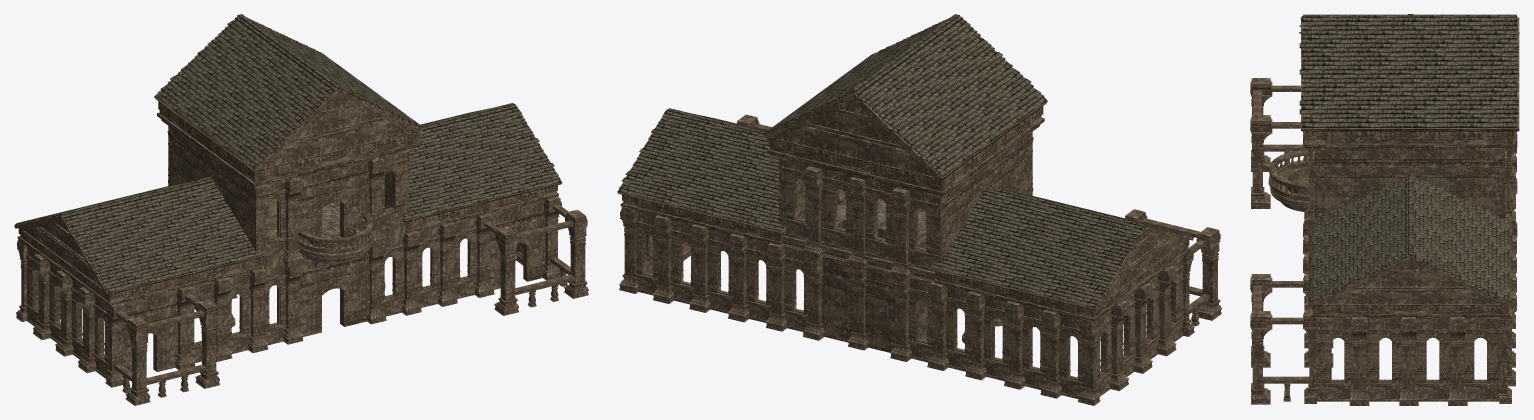
The model's file is materials_5_building_6.fbx.
3 renders of one model, left to right at view 1: azimuth 30°, elevation 25°; view 2: azimuth 150°, elevation 25°; view 3: azimuth 270°, elevation 25°, orthographic. The views are drawn at different scales.
Visible parts, largest first — view 1: materials_5_building_6; view 2: materials_5_building_6; view 3: materials_5_building_6.
Part boxes in pixels (x1=…): materials_5_building_6: x1=14, y1=14, x2=588, y2=405; materials_5_building_6: x1=617, y1=14, x2=1221, y2=405; materials_5_building_6: x1=1250, y1=14, x2=1519, y2=405.
Bounding box in the file's own units: 3438 × 1761 × 1602.
